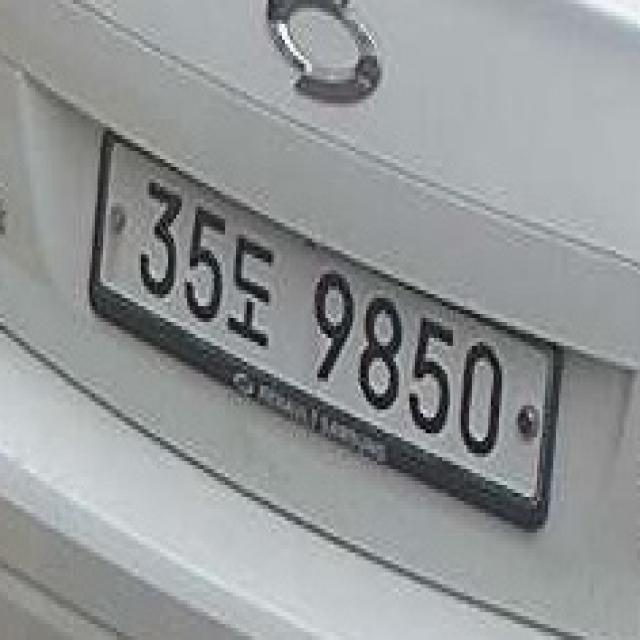0: (456, 334, 504, 461)
3: (133, 171, 187, 302)
5: (404, 310, 456, 433), (182, 203, 228, 334)
8: (356, 291, 402, 414)
9: (312, 266, 355, 382)
do: (222, 226, 274, 354)
license_plate: (90, 131, 553, 517)
